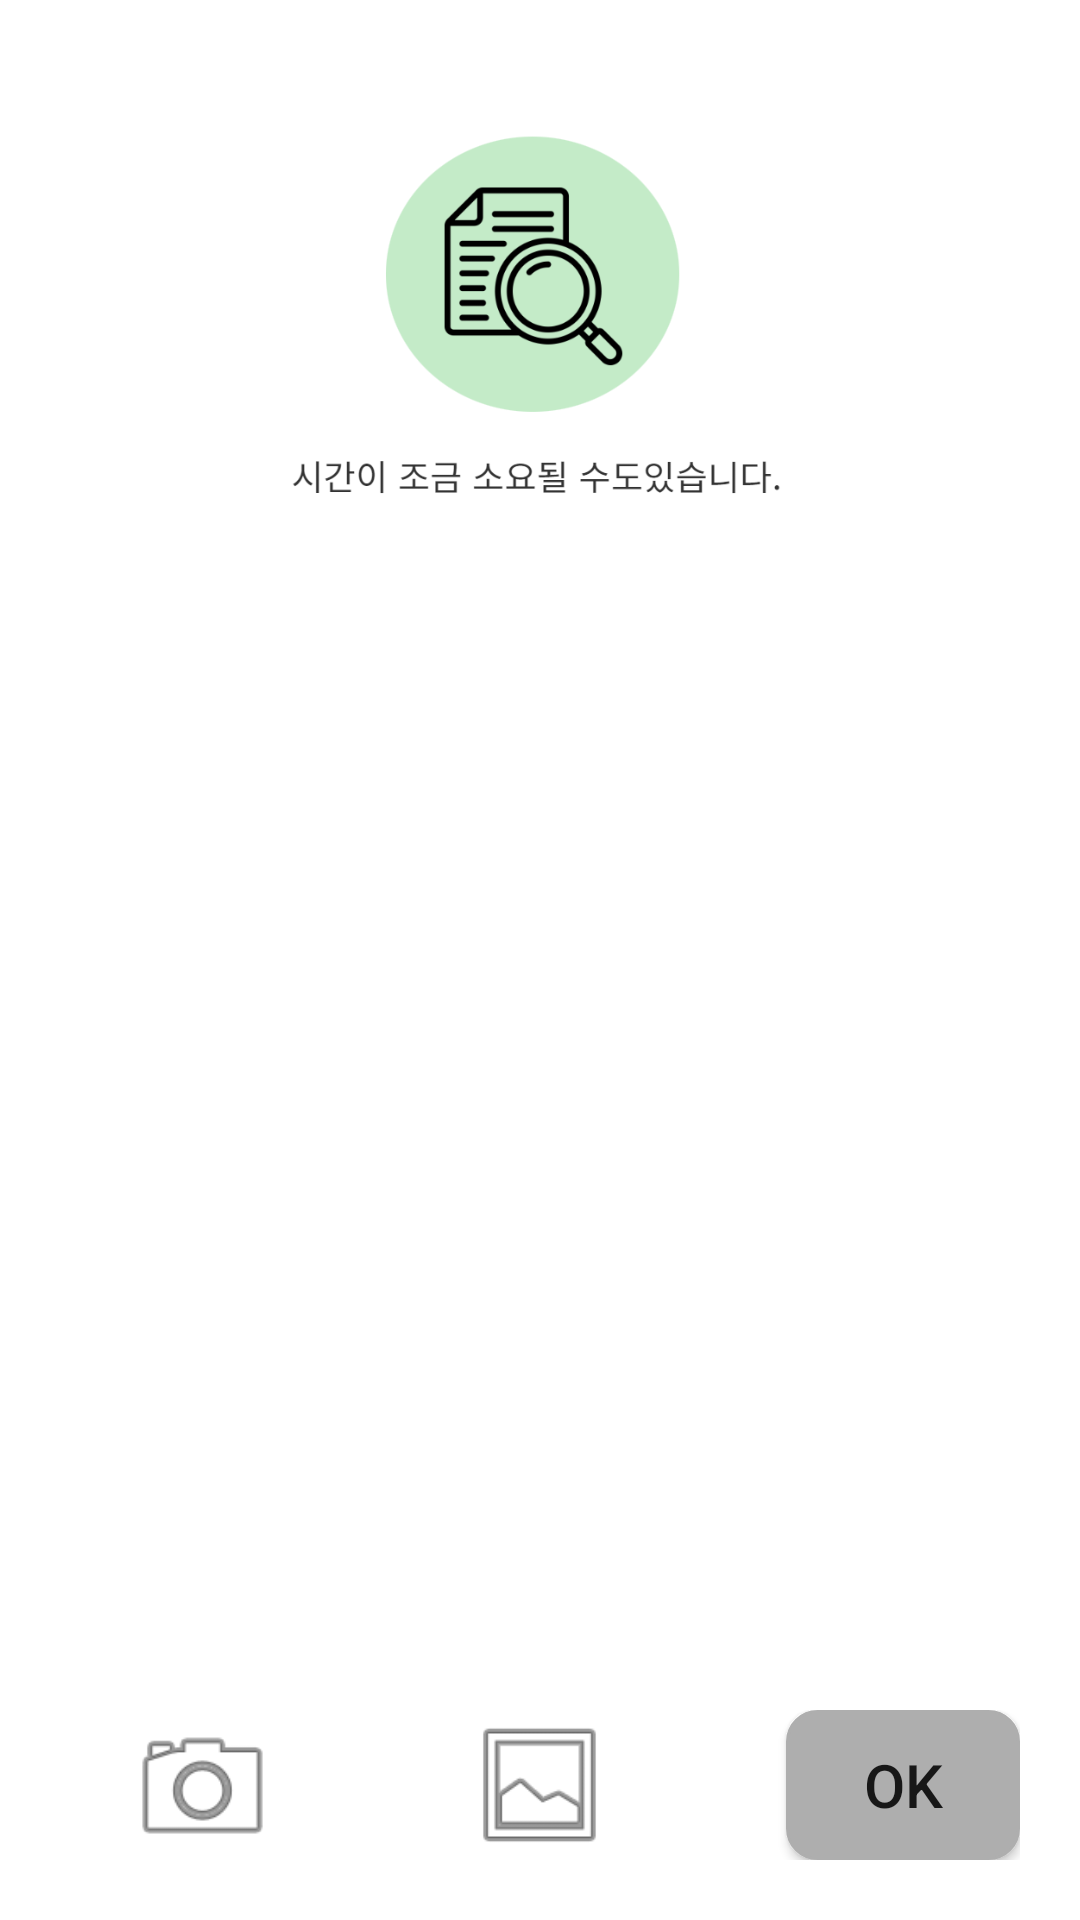

Icons on this 1080 × 1920 Android screen, each with the point to tap as point (x, y):
camera: point (202, 1785)
gallery: point (539, 1785)
